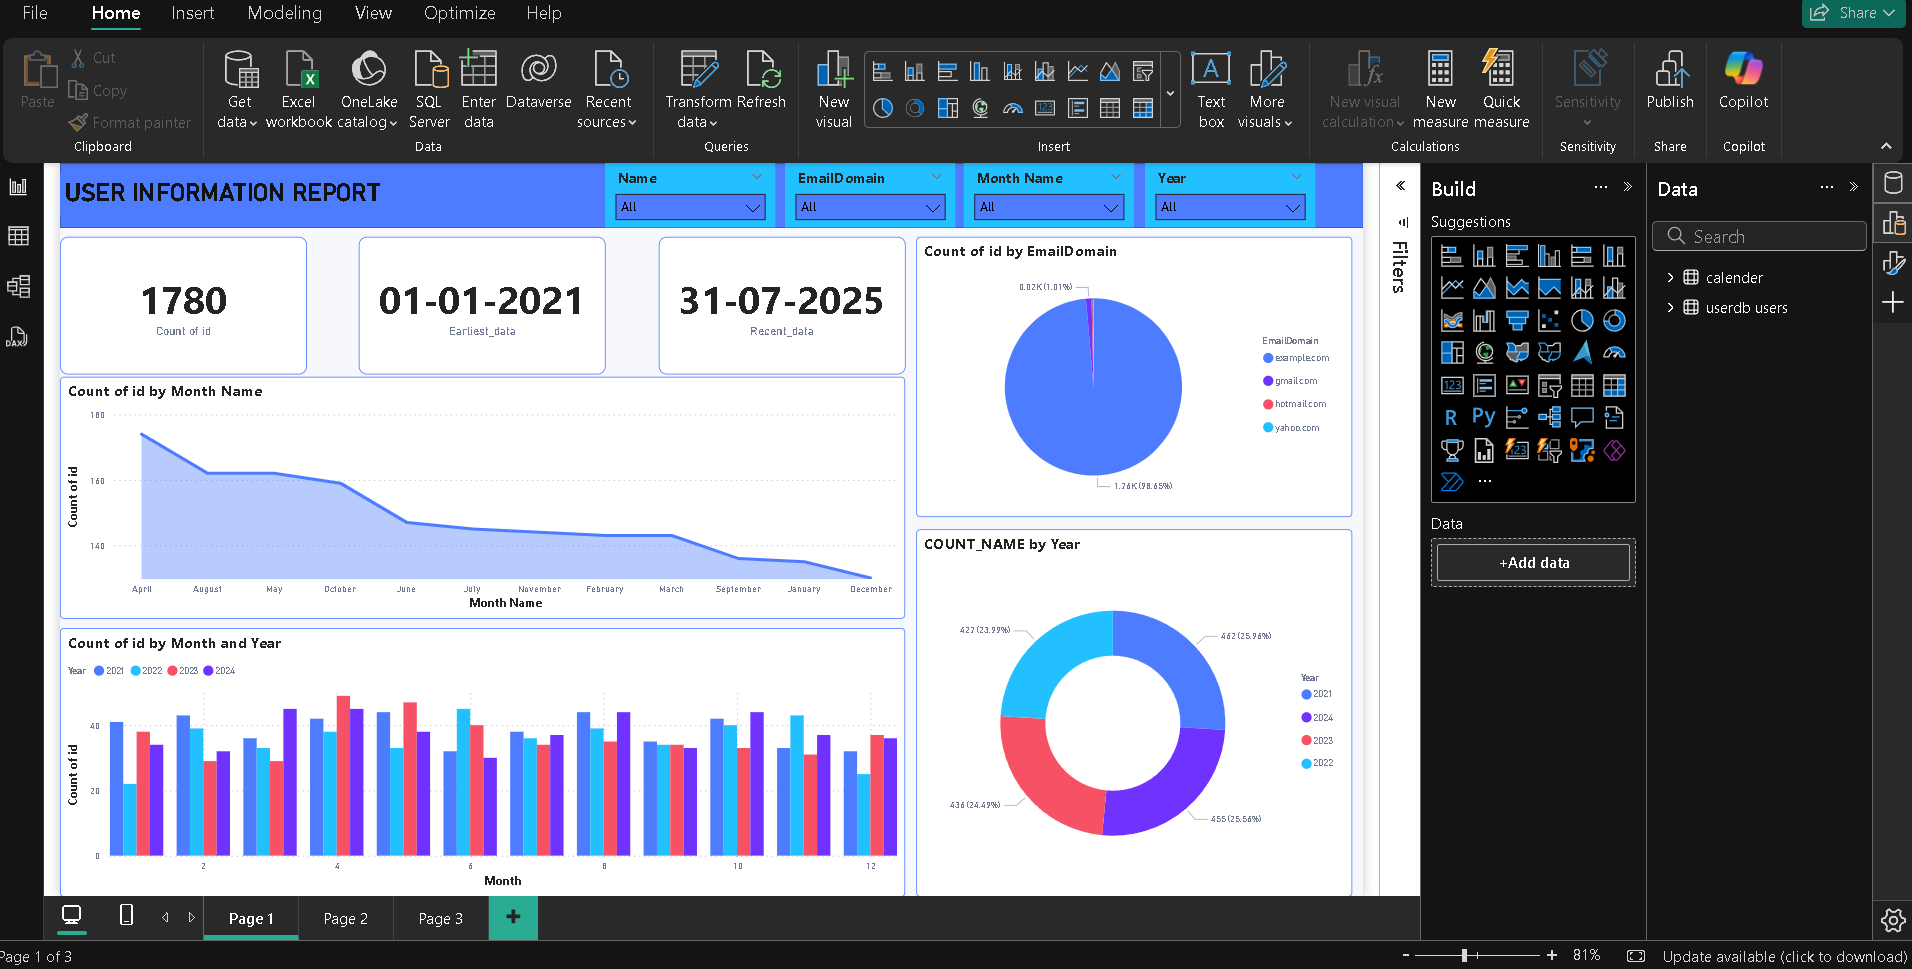

The page's visual inventory and layout, read from the dashboard file:
{"tool":"powerbi","page":{"name":"Page 1","canvas":[1280,720],"ordinal":0},"visuals":[{"type":"textbox","box":[0,0,365,43.8],"z":0},{"type":"shape","box":[0,0,1279.8,63.8],"z":1},{"type":"card","fields":{"Values":["userdb users.Earliest_data"]},"box":[293.6,72.1,242.6,135.6],"z":3},{"type":"card","fields":{"Values":["userdb users.Recent_data"]},"box":[587.1,72.1,242.6,135.6],"z":5},{"type":"card","fields":{"Values":["userdb users.id"]},"box":[0,72.1,242.6,135.6],"z":6},{"type":"donutChart","fields":{"Category":["calender.Year"],"Y":["userdb users._NAME"]},"box":[840.9,359.5,427.9,360.7],"z":7},{"type":"areaChart","fields":{"Category":["calender.Month Name"],"Y":["userdb users.id"]},"box":[0,210.2,829.7,237.6],"z":8},{"type":"pieChart","fields":{"Y":["userdb users.id"],"Category":["userdb users.EMAILDOMAIN"]},"box":[840.9,72.1,427.9,274.9],"z":9},{"type":"clusteredColumnChart","fields":{"Category":["calender.Month"],"Y":["userdb users.id"],"Series":["calender.Year"]},"box":[0,456.5,829.7,263.7],"z":10},{"type":"textbox","box":[0,9.8,355.8,42.9],"z":11},{"type":"slicer","fields":{"Values":["userdb users.name"]},"box":[535.3,0,167.4,63.5],"z":12},{"type":"slicer","fields":{"Values":["calender.Year"]},"box":[1064.8,0,167.4,63.5],"z":13},{"type":"slicer","fields":{"Values":["calender.Month Name"]},"box":[887.3,0,167.4,63.5],"z":14},{"type":"slicer","fields":{"Values":["userdb users.EMAILDOMAIN"]},"box":[711.3,0,167.4,63.5],"z":15}]}

Visuals, with their boxes on the page's 1280x720 design canvas (x1, y1, x2, y2). These are canvas units, not pixel positions in the 1912x969 screenshot, which may show the page scaled, cropped or inside an application window:
textbox: pyautogui.locateOnScreen(0, 0, 365, 44)
shape: pyautogui.locateOnScreen(0, 0, 1280, 64)
card - userdb users.Earliest_data: pyautogui.locateOnScreen(294, 72, 536, 208)
card - userdb users.Recent_data: pyautogui.locateOnScreen(587, 72, 830, 208)
card - userdb users.id: pyautogui.locateOnScreen(0, 72, 243, 208)
donutChart - calender.Year x userdb users._NAME: pyautogui.locateOnScreen(841, 360, 1269, 720)
areaChart - calender.Month Name x userdb users.id: pyautogui.locateOnScreen(0, 210, 830, 448)
pieChart - userdb users.id x userdb users.EMAILDOMAIN: pyautogui.locateOnScreen(841, 72, 1269, 347)
clusteredColumnChart - calender.Month x userdb users.id: pyautogui.locateOnScreen(0, 456, 830, 720)
textbox: pyautogui.locateOnScreen(0, 10, 356, 53)
slicer - userdb users.name: pyautogui.locateOnScreen(535, 0, 703, 64)
slicer - calender.Year: pyautogui.locateOnScreen(1065, 0, 1232, 64)
slicer - calender.Month Name: pyautogui.locateOnScreen(887, 0, 1055, 64)
slicer - userdb users.EMAILDOMAIN: pyautogui.locateOnScreen(711, 0, 879, 64)
